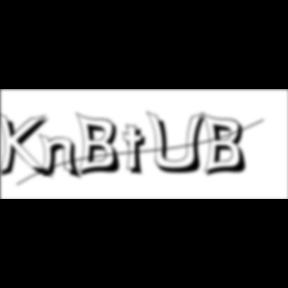B: (76, 111, 126, 179), (202, 111, 252, 179)
K: (1, 110, 55, 182)
U: (146, 110, 212, 176)
n: (39, 132, 86, 181)
t: (122, 124, 154, 179)
